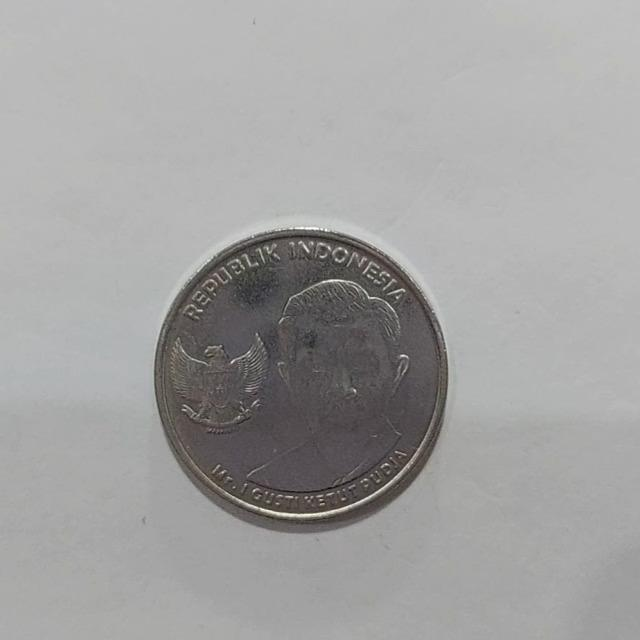Rp100: (152, 222, 450, 528)
